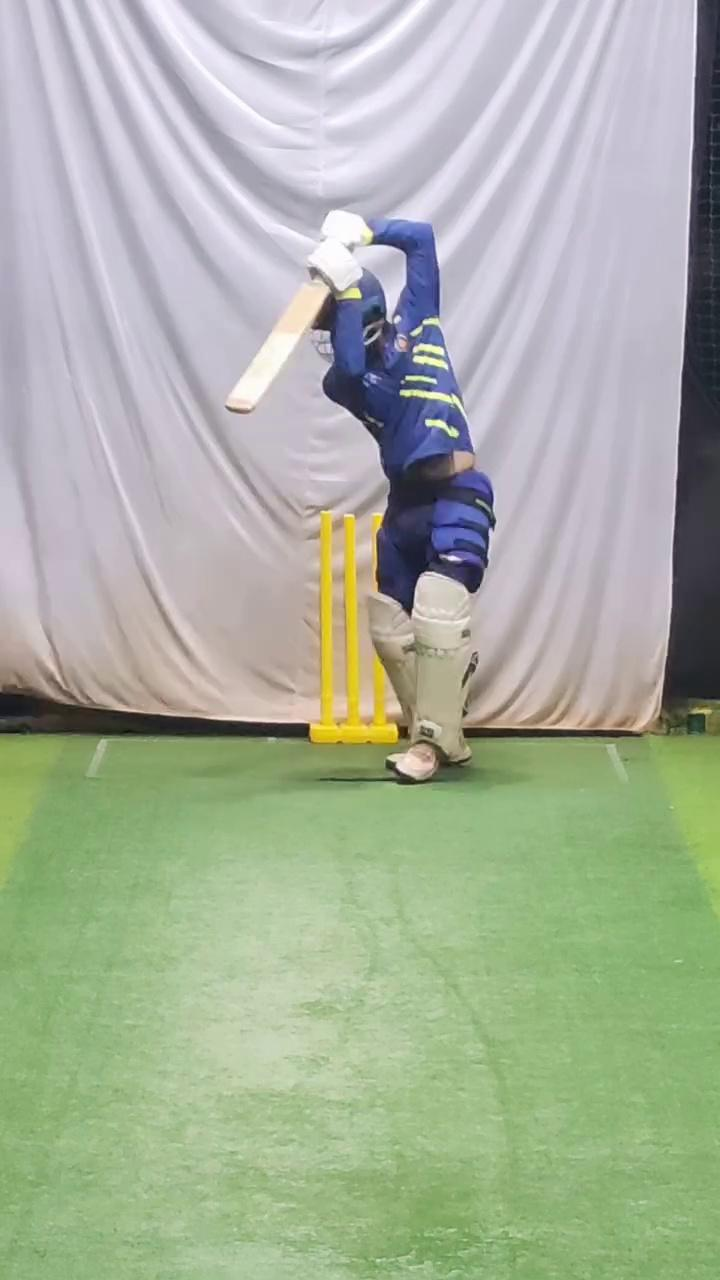bat: (219, 270, 333, 426)
